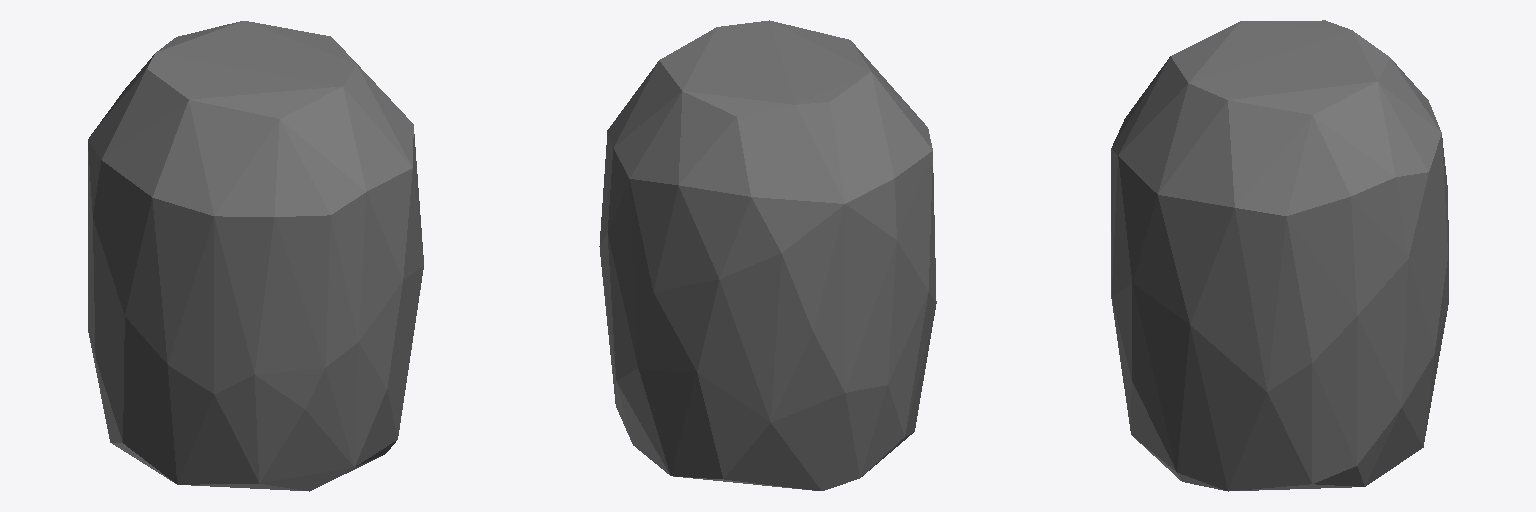
The robot description file, URDF, robot "jar_015":
<?xml version="1.0" ?>
<robot name="jar_015">
  <material name="color">
    <color rgba=".5 .5 .5 1"/>
  </material>

  <link name="base_link">
    <contact>
      <lateral_friction value="1.0"/>
      <rolling_friction value="0.001"/>
      <spinning_friction value="0.001"/>
      <inertia_scaling value="1.0"/>
    </contact>
    <inertial>
      <origin rpy="0 0 0" xyz="3.64519e-05 4.22309e-05 -0.0035973"/>
       <mass value="0.1"/>
       <inertia ixx="1" ixy="0" ixz="0" iyy="1" iyz="0" izz="1"/>
    </inertial>

    <visual>
      <origin rpy="0 0 0" xyz="0 0 0"/>
      <geometry>
        <mesh filename="jar_015_vhacd_0_of_1.obj" scale="1 1 1"/>
      </geometry>
      <material name="color"/>
    </visual>

    <collision>
      <origin rpy="0 0 0" xyz="0 0 0"/>
      <geometry>
        <mesh filename="jar_015_vhacd_0_of_1.obj" scale="1 1 1"/>
      </geometry>
    </collision>

  </link>
</robot>

--- Facts derived from the render (not from the file) ---
The picture shows the robot from 3 angles, left to right: view 1: azimuth 30°, elevation 25°; view 2: azimuth 150°, elevation 25°; view 3: azimuth 270°, elevation 25°; orthographic projection.
Model jar_015 with 1 links and 0 joints (none), rooted at base_link, posed every joint at zero.
Visible links, largest first — view 1: base_link; view 2: base_link; view 3: base_link.
Link boxes in pixels (x1,y1,x2,y2): base_link: (88,21,423,491); base_link: (599,20,936,490); base_link: (1111,20,1448,491).
Size in the robot's own frame: 0.1658 by 0.1661 by 0.2063 metres.
Meshes: 1 distinct files referenced, 1 mesh visuals loaded (1 OBJ).